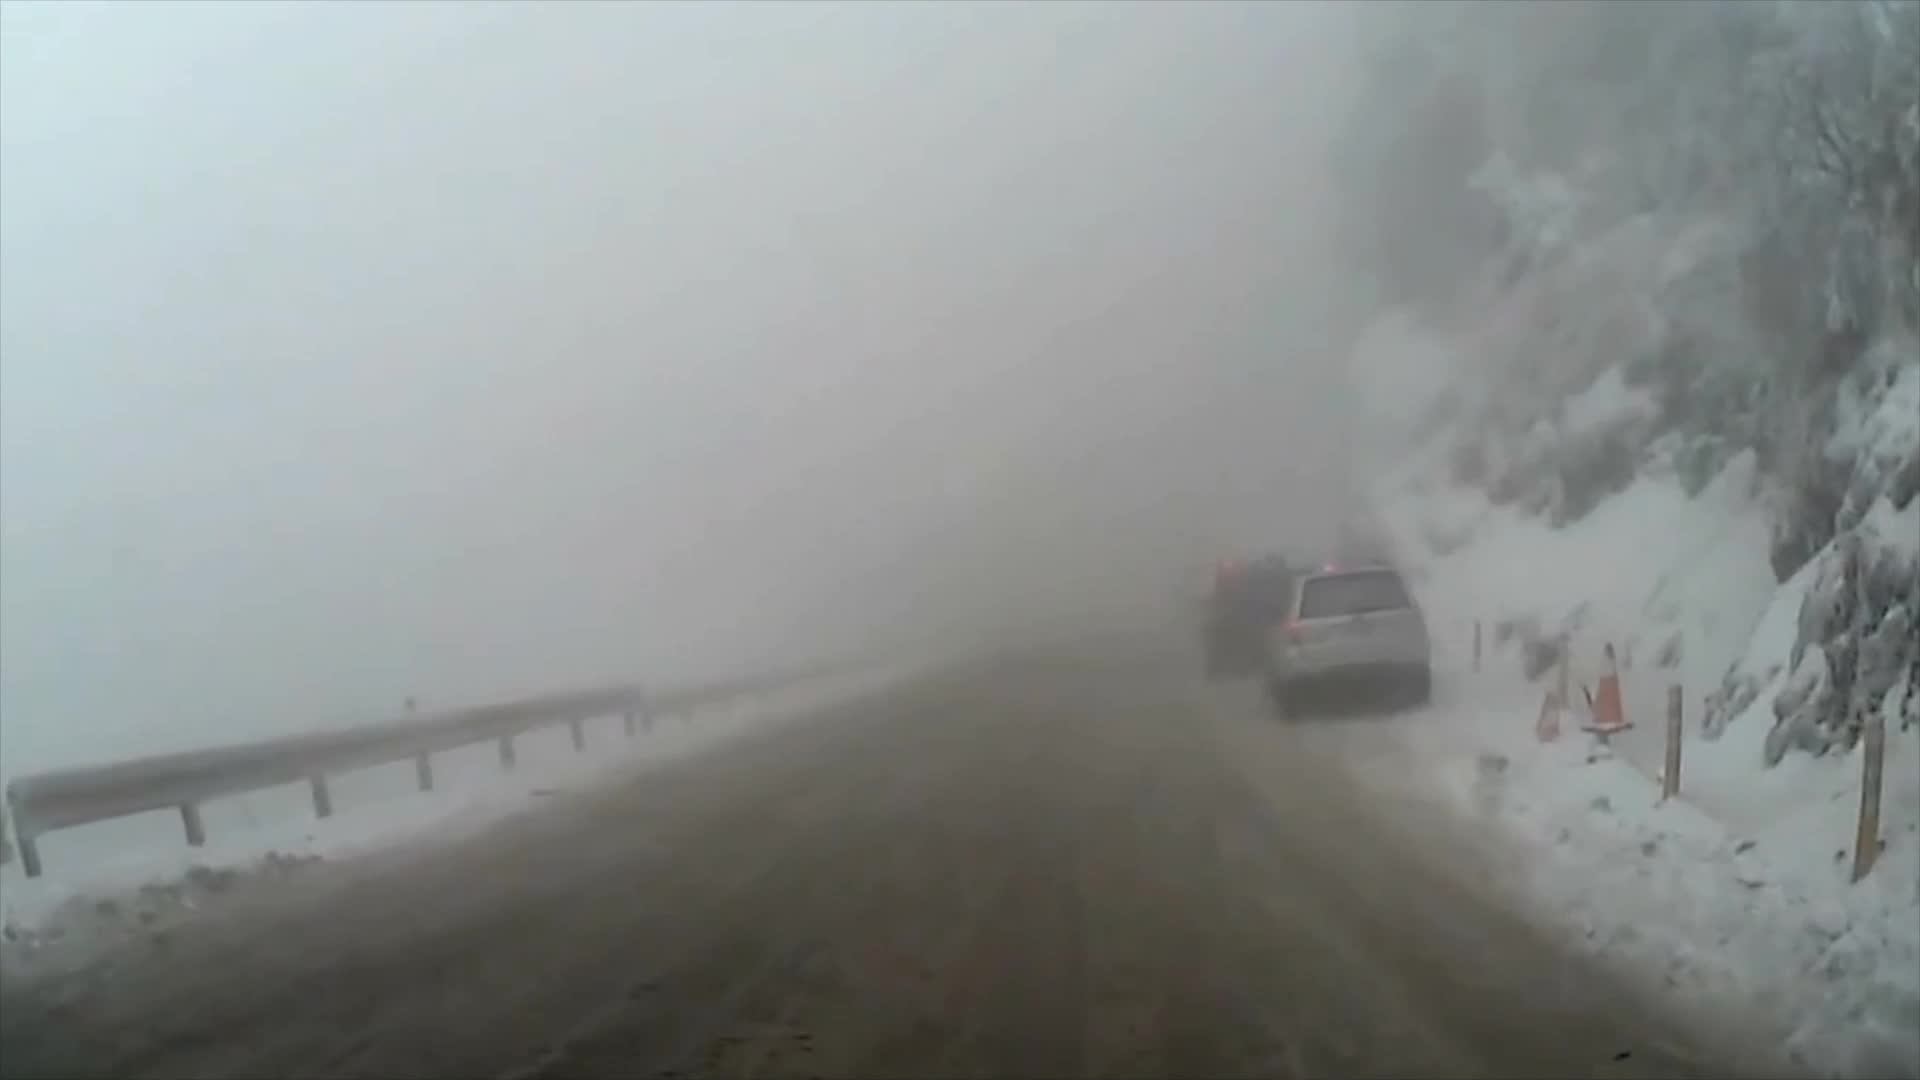vehicle: (1263, 560, 1428, 720), (1199, 551, 1321, 686)
